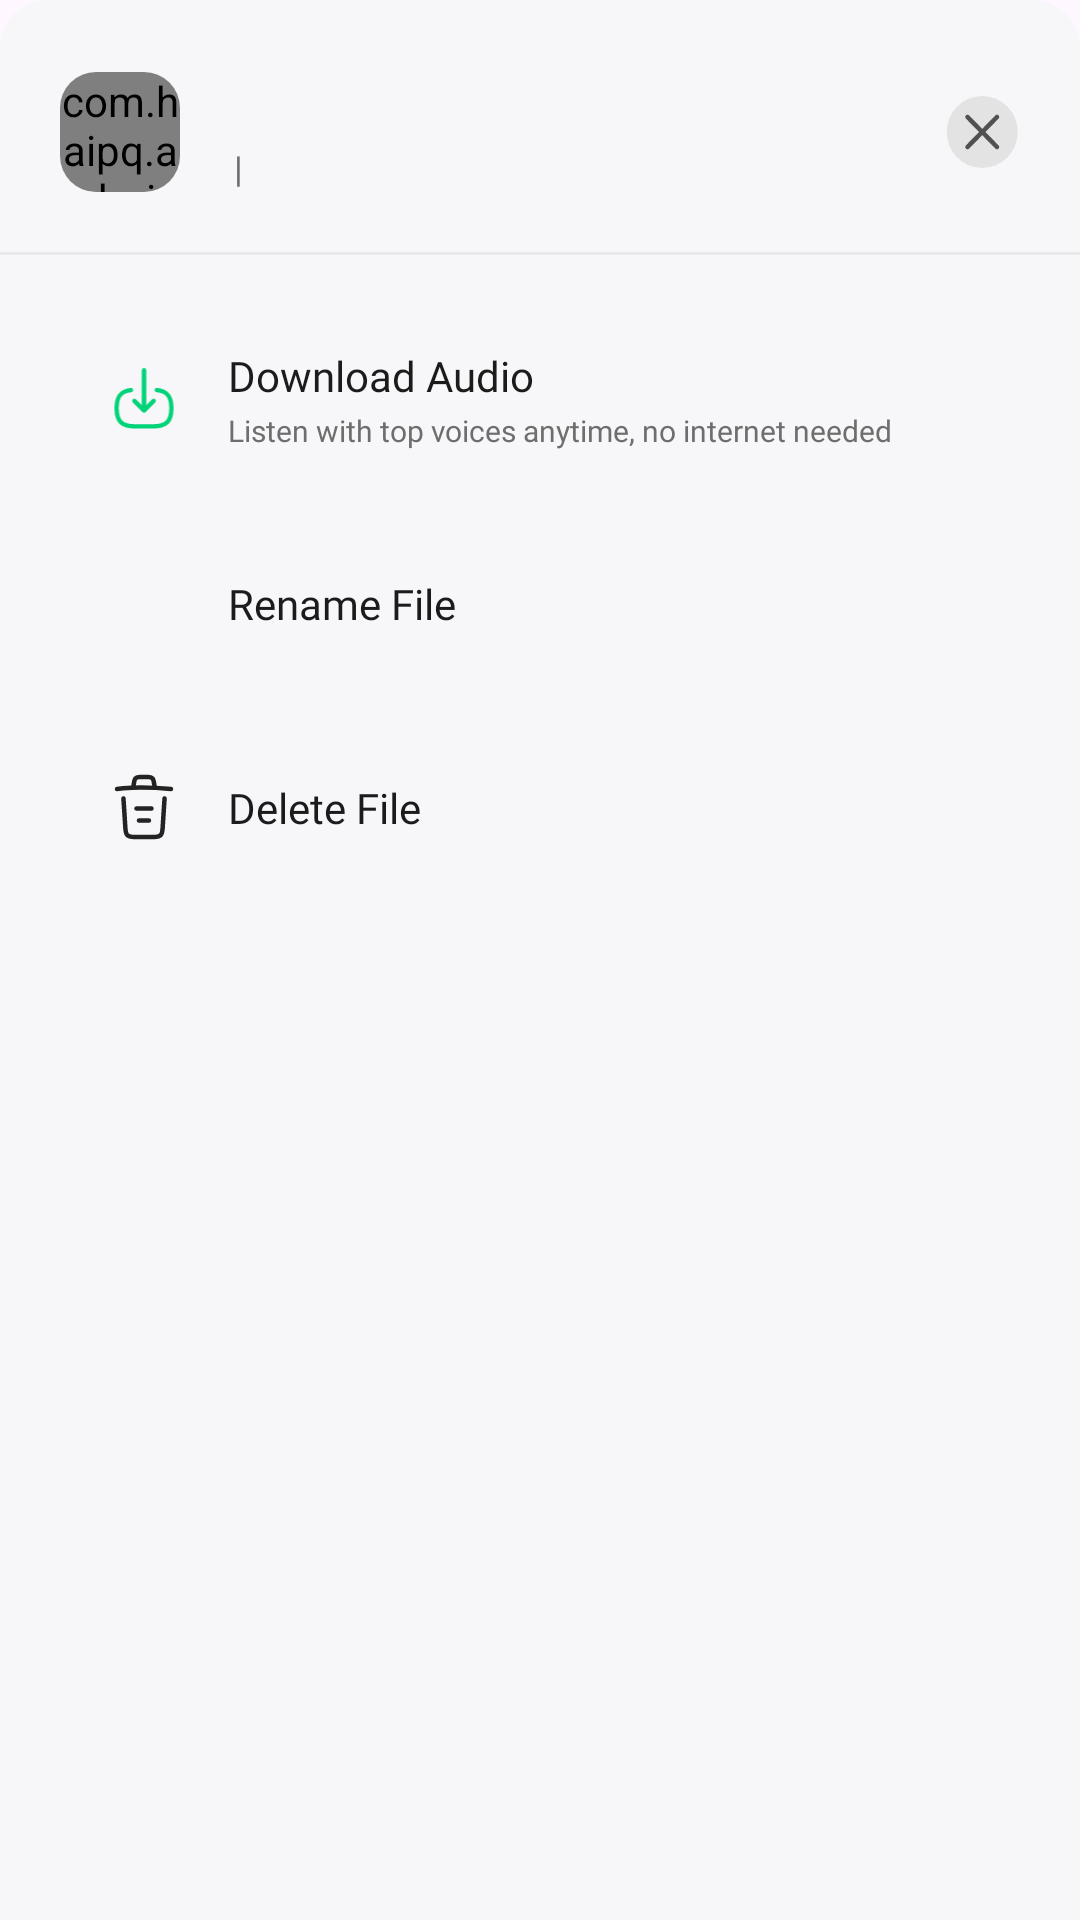

Icon bounding boxes for this 1080x1920 phone screenshot, format (x1, y1, x2, y2):
close sheet: (947, 96, 1018, 168)
